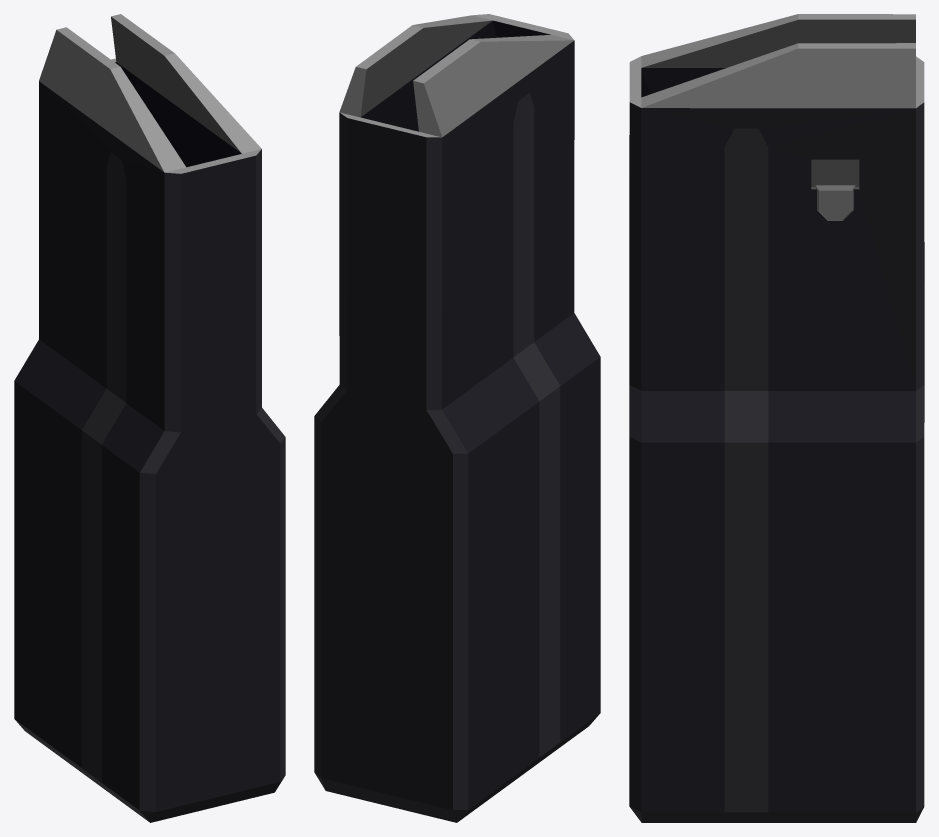
File: MW1_Magazine_5.56mm_03.fbx
The picture shows the model from 3 angles, left to right: view 1: azimuth 30°, elevation 25°; view 2: azimuth 150°, elevation 25°; view 3: azimuth 270°, elevation 25°; orthographic projection. The views are drawn at different scales.
Visible parts, largest first — view 1: Magazine_5.56mm_03; view 2: Magazine_5.56mm_03; view 3: Magazine_5.56mm_03.
Boxes of the visible parts, left/top/right/bottom form: Magazine_5.56mm_03: left=14, top=14, right=285, bottom=822; Magazine_5.56mm_03: left=314, top=14, right=600, bottom=822; Magazine_5.56mm_03: left=629, top=14, right=924, bottom=822.
Bounding box in the file's own units: 4.08 × 18.53 × 6.53.
